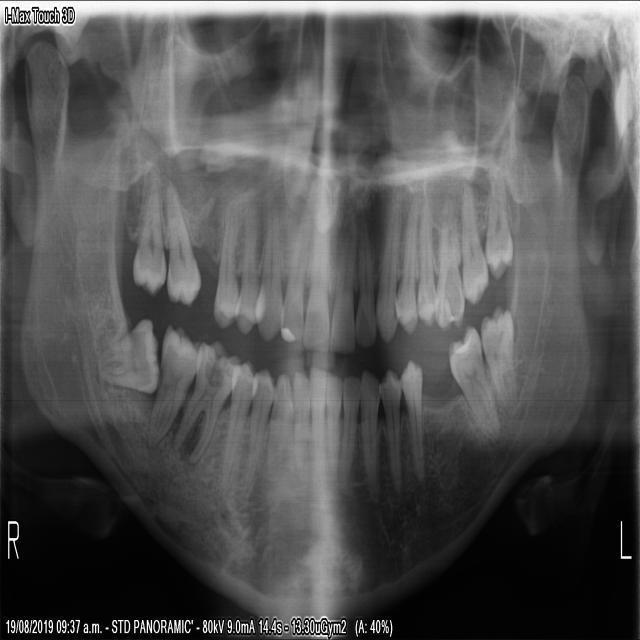LCD: (359, 367, 380, 492)
LCU: (375, 195, 404, 346)
LID: (338, 368, 360, 482), (326, 363, 342, 474)
LIU: (329, 214, 356, 355), (352, 218, 376, 348)
LMD: (444, 311, 502, 444), (476, 296, 516, 414)
LMU: (459, 179, 489, 306), (433, 199, 462, 325), (484, 167, 515, 281)
LPMD: (399, 354, 428, 480), (376, 366, 402, 492)
LPMU: (394, 197, 419, 342), (415, 199, 438, 328)
RCD: (264, 368, 293, 482)
RCU: (252, 208, 282, 347)
RID: (306, 366, 326, 469), (290, 371, 310, 472)
RIU: (277, 216, 307, 344), (302, 212, 328, 349)
RMD: (175, 334, 242, 463), (145, 321, 200, 446), (97, 312, 159, 395)
RMU: (158, 183, 202, 306), (130, 186, 166, 295)
RPMD: (222, 358, 252, 485), (243, 363, 273, 476)
RPMU: (233, 209, 264, 334), (208, 214, 240, 330)
